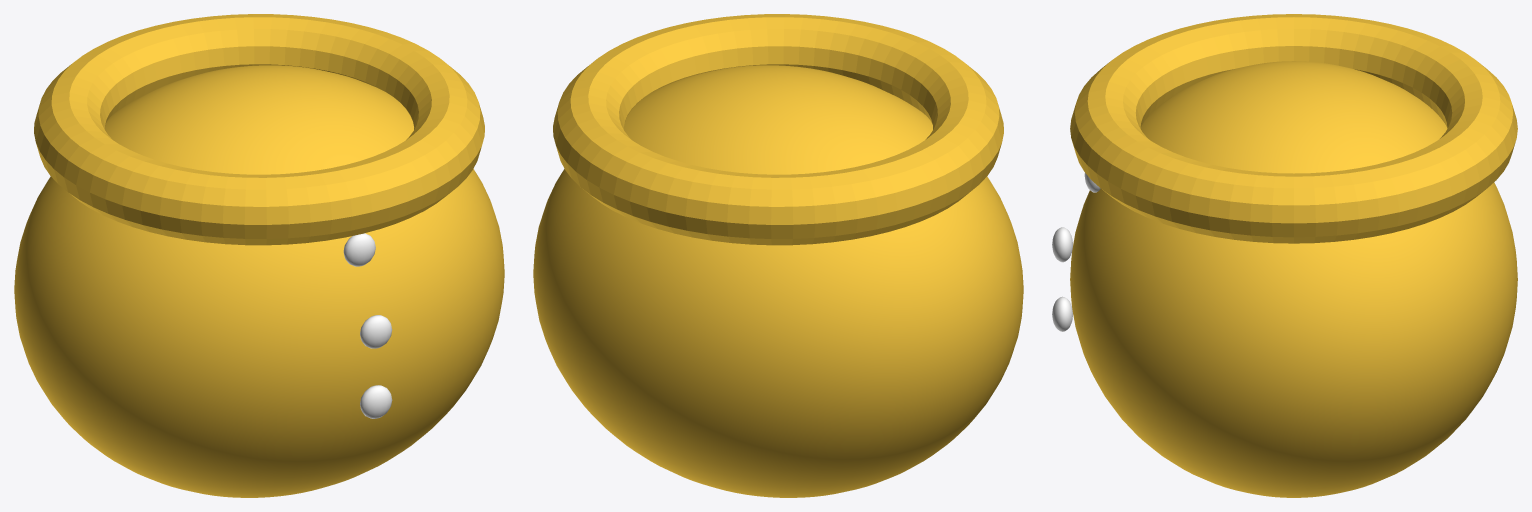
Rendered from yellow_raincoat.fbx.
3 renders of one model, left to right at view 1: azimuth 30°, elevation 25°; view 2: azimuth 150°, elevation 25°; view 3: azimuth 270°, elevation 25°, orthographic.
Visible parts, largest first — view 1: Sphere151, Torus018, Sphere153, Sphere154, Sphere152; view 2: Sphere151, Torus018; view 3: Sphere151, Torus018, Sphere153, Sphere154.
Part boxes in pixels (box(x1,y1,x2,y2)): Sphere151: box(14, 65, 504, 497); Torus018: box(34, 14, 484, 245); Sphere153: box(360, 315, 392, 348); Sphere154: box(360, 385, 392, 418); Sphere152: box(343, 233, 375, 266); Sphere151: box(533, 65, 1023, 497); Torus018: box(553, 14, 1003, 245); Sphere151: box(1070, 61, 1517, 497); Torus018: box(1070, 14, 1517, 243); Sphere153: box(1052, 227, 1072, 262); Sphere154: box(1052, 296, 1073, 331).
Bounding box in the file's own units: 15.6 × 13.2 × 14.56.
